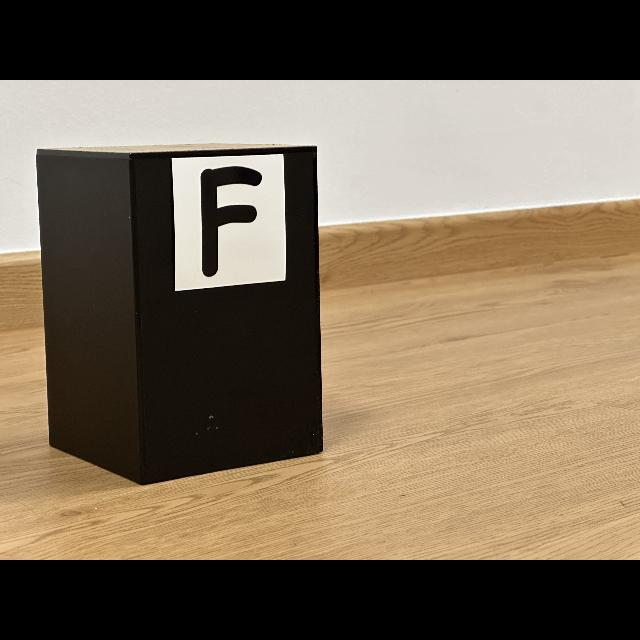F: (200, 166, 261, 276)
